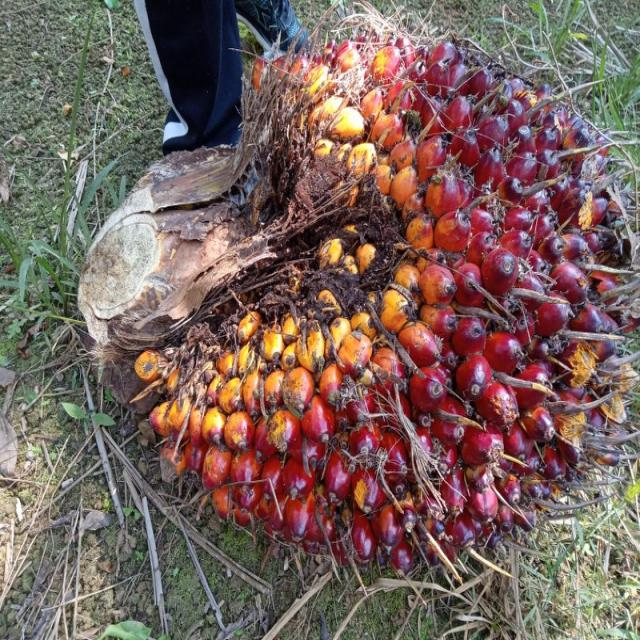fraksi 1: (90, 14, 636, 606)
